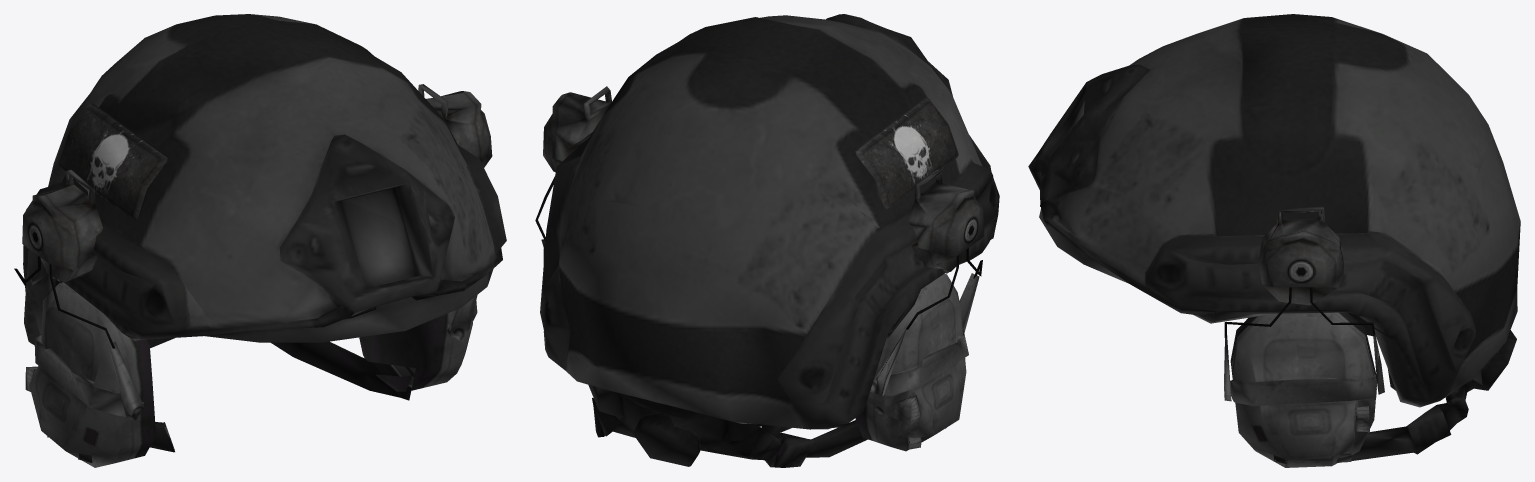
Rendered from TaskForceHelmet_Ground.fbx.
3 renders of one model, left to right at view 1: azimuth 30°, elevation 25°; view 2: azimuth 150°, elevation 25°; view 3: azimuth 270°, elevation 25°, orthographic. The views are drawn at different scales.
Visible parts, largest first — view 1: Headset Rail Adapters; view 2: Headset Rail Adapters; view 3: Headset Rail Adapters.
Part boxes in pixels (bbox=[...]): Headset Rail Adapters: bbox=[14, 14, 506, 467]; Headset Rail Adapters: bbox=[535, 14, 999, 467]; Headset Rail Adapters: bbox=[1028, 14, 1520, 467].
Size of the model in its own units: 0.1445 by 0.1244 by 0.1504.
